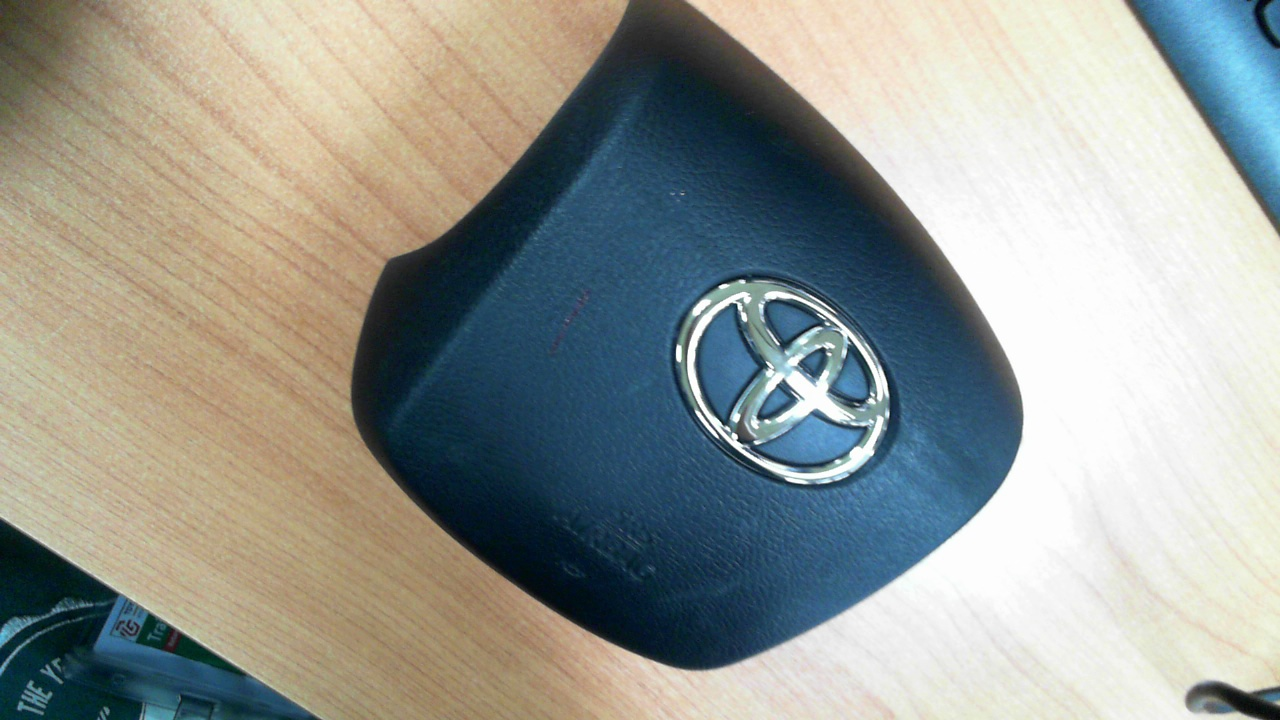Airbag: (350, 0, 1024, 672)
Toyota: (675, 278, 891, 485)
